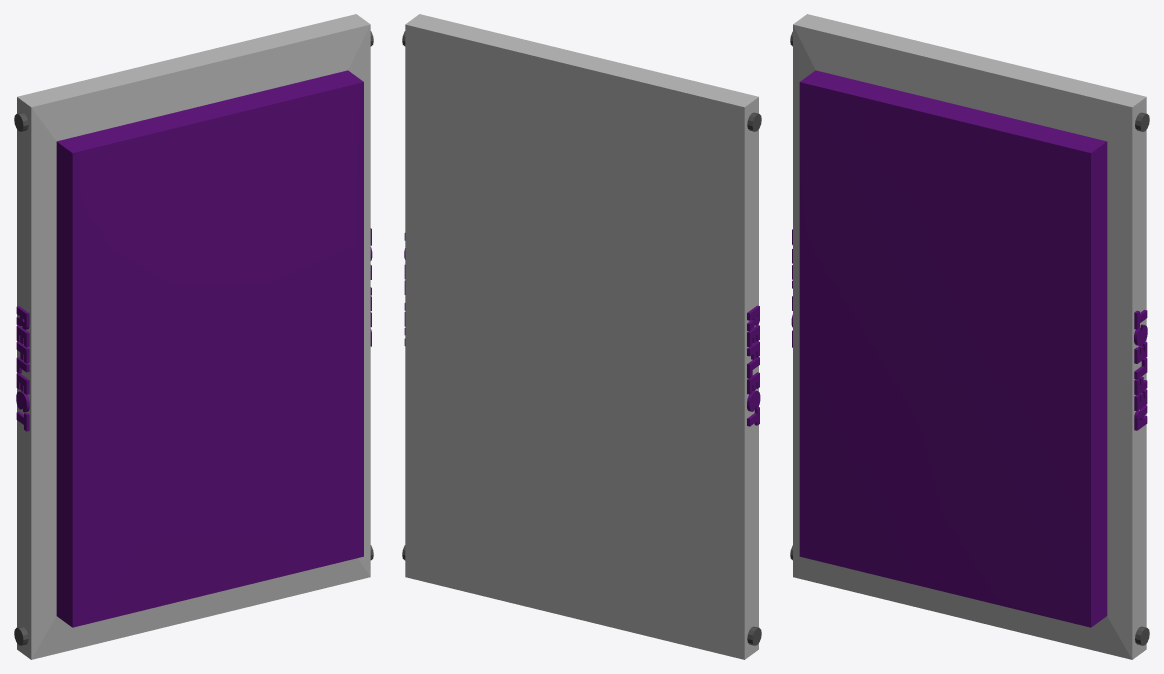
Rendered from Reflect Panel.fbx.
3 views of the same model, side by side, from view 1: azimuth 30°, elevation 25°; view 2: azimuth 150°, elevation 25°; view 3: azimuth 330°, elevation 25° (orthographic).
Parts seen in each view (by area): view 1: base, Reflect_text, screws; view 2: base, Reflect_text, screws; view 3: base, Reflect_text, screws.
Part boxes in pixels (left/top/right/bottom): base: left=17, top=14, right=370, bottom=659; Reflect_text: left=16, top=228, right=372, bottom=431; screws: left=14, top=31, right=373, bottom=645; base: left=405, top=14, right=758, bottom=659; Reflect_text: left=404, top=233, right=760, bottom=426; screws: left=402, top=31, right=761, bottom=645; base: left=793, top=14, right=1146, bottom=659; Reflect_text: left=791, top=229, right=1147, bottom=430; screws: left=790, top=31, right=1149, bottom=645.
Bounding box in the file's own units: 15.69 × 23.65 × 2.55.
